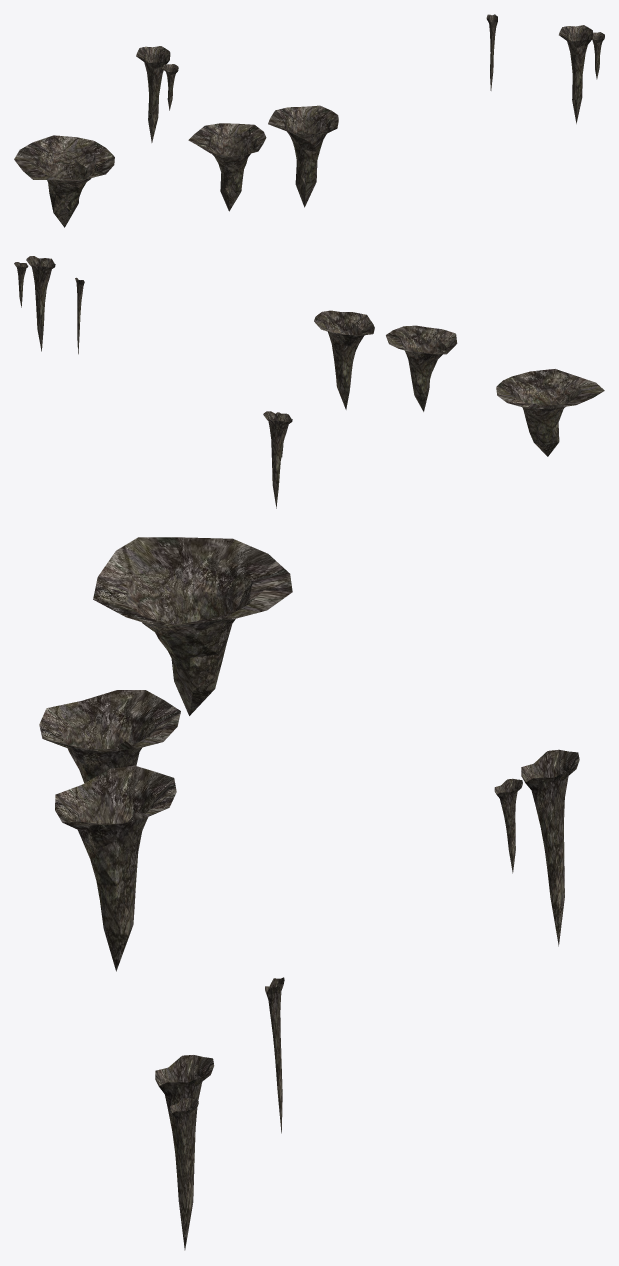
Rendered from dripstones.fbx.
The picture shows the model from 3 angles, top to bottom: view 1: azimuth 30°, elevation 25°; view 2: azimuth 150°, elevation 25°; view 3: azimuth 270°, elevation 25°; orthographic projection. The views are drawn at different scales.
Visible parts, largest first — view 1: group27, dripstone:Mesh; view 2: group27, dripstone:Mesh; view 3: group27, dripstone:Mesh.
Part boxes in pixels (<box>): group27: <box>136,14,604,211</box>; dripstone:Mesh: <box>14,135,114,227</box>; group27: <box>14,256,457,508</box>; dripstone:Mesh: <box>496,369,604,456</box>; group27: <box>39,690,579,1250</box>; dripstone:Mesh: <box>93,537,292,715</box>.
Bounding box in the file's own units: 1.5 × 0.2828 × 0.6075.
Materials: 1 (1 with a texture image).
